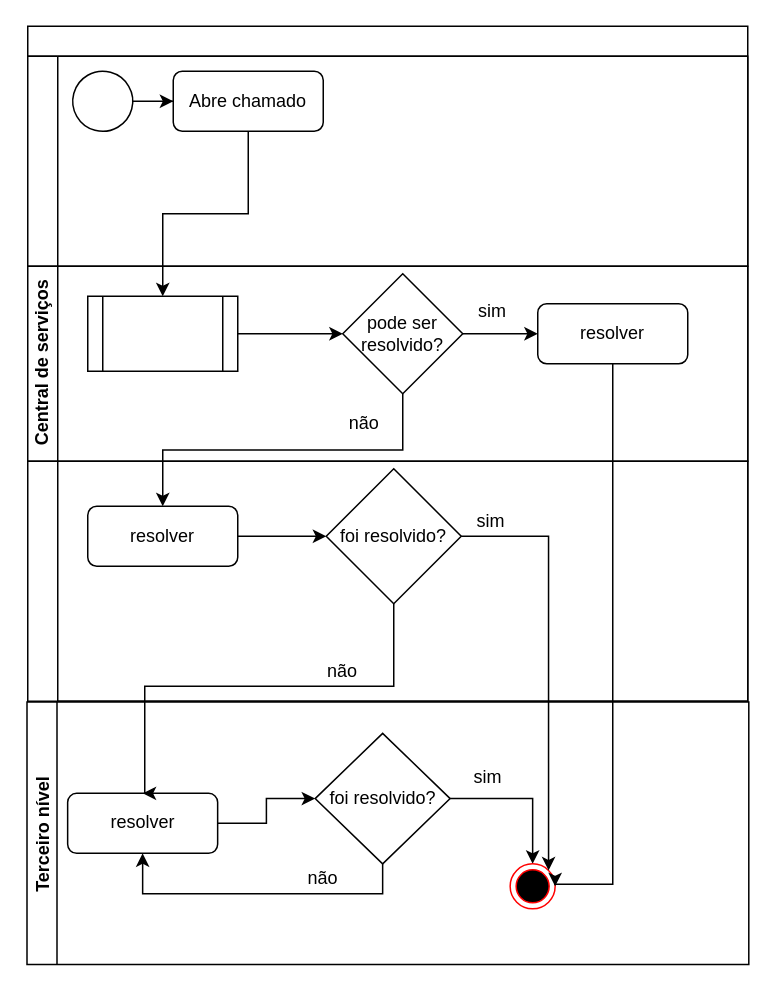
This 776x992 diagram has some shape labels left out. Each missing label, with the box of its shape:
classificar e priorizar chamado: (86, 295, 238, 371)
Resolvendo uma ocorrência: (26, 25, 748, 701)
Segundo nível: (26, 460, 748, 701)
usuário: (26, 55, 748, 266)
